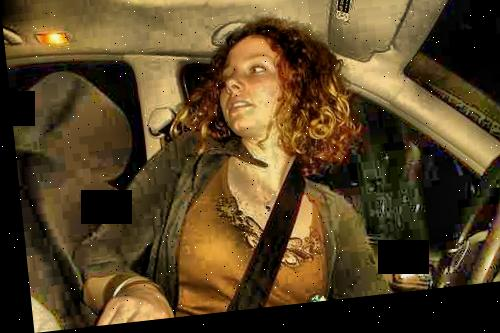seatbelt: (229, 151, 330, 273)
